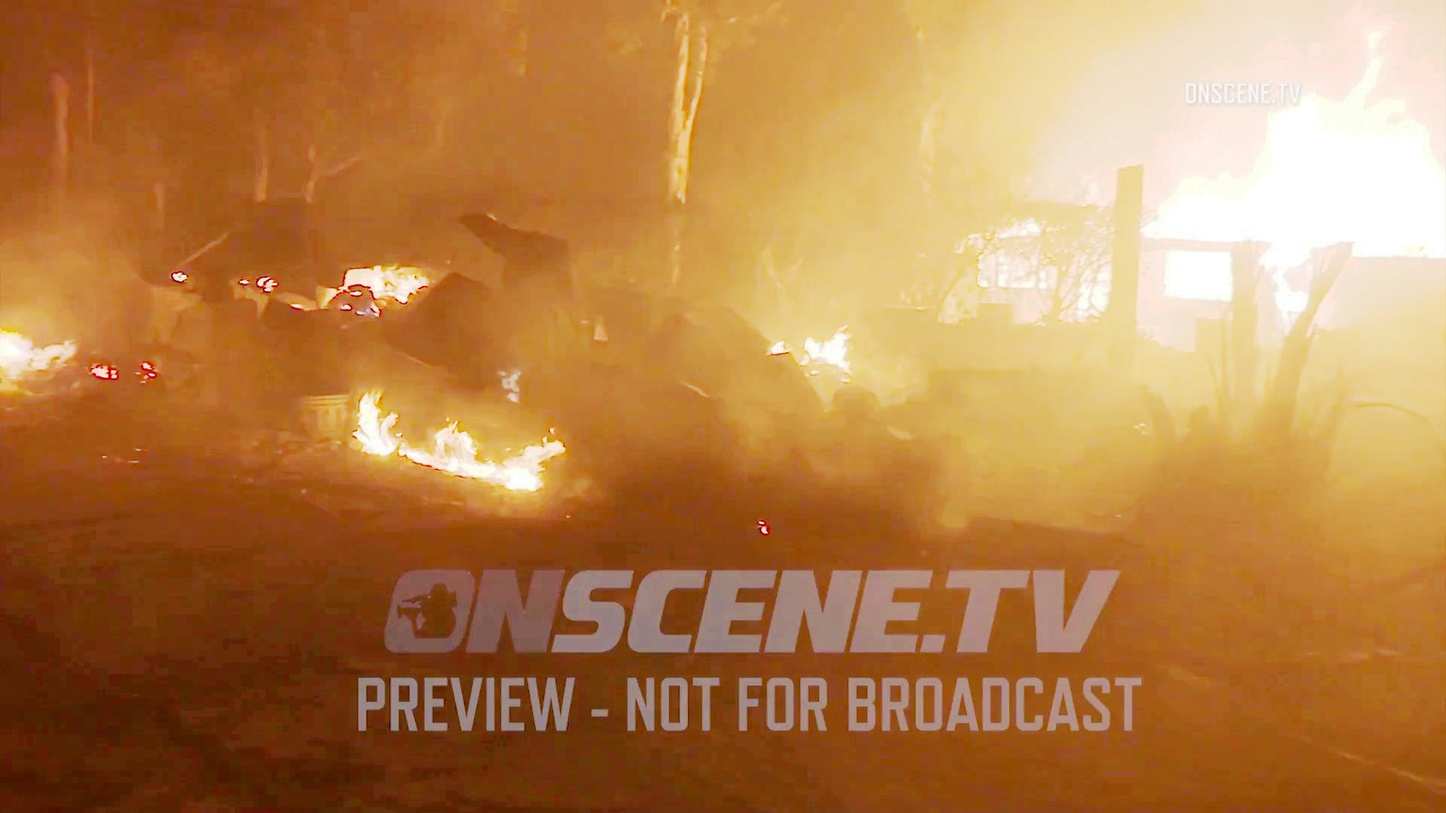fire: (1165, 15, 1446, 229), (360, 379, 558, 494)
